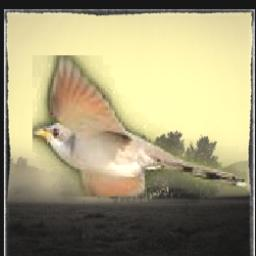Cuckoo: (31, 55, 246, 197)
